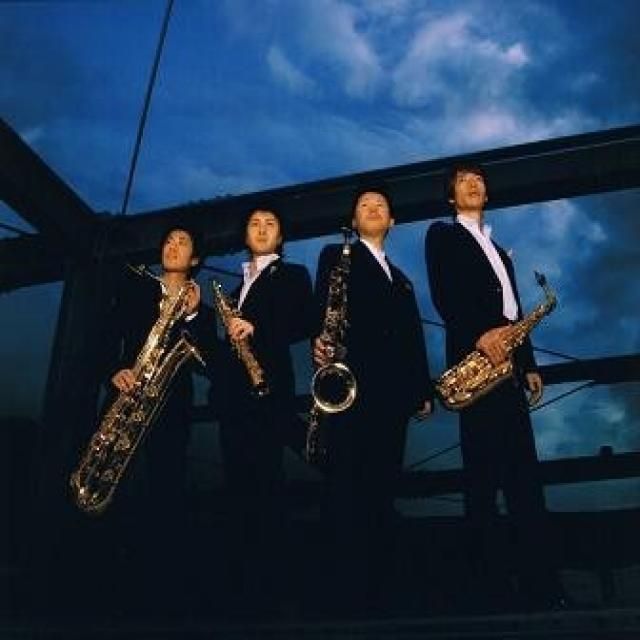saxophone: (69, 253, 207, 514), (429, 269, 564, 407), (299, 224, 366, 466)
